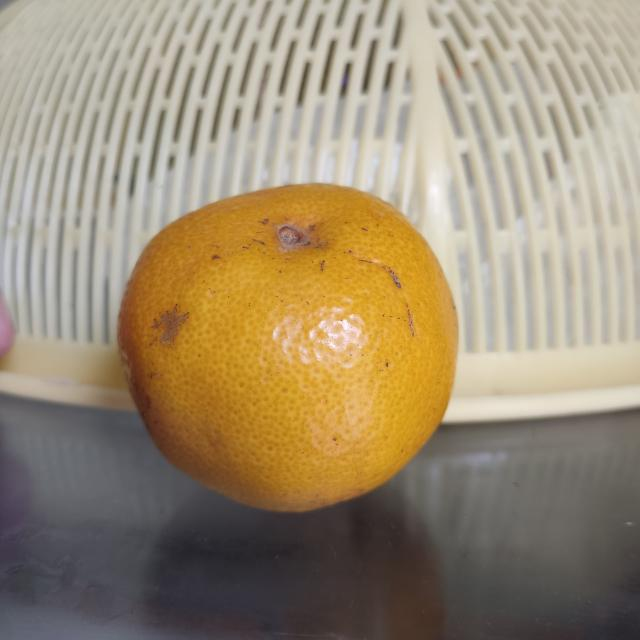orange: (113, 178, 463, 516)
